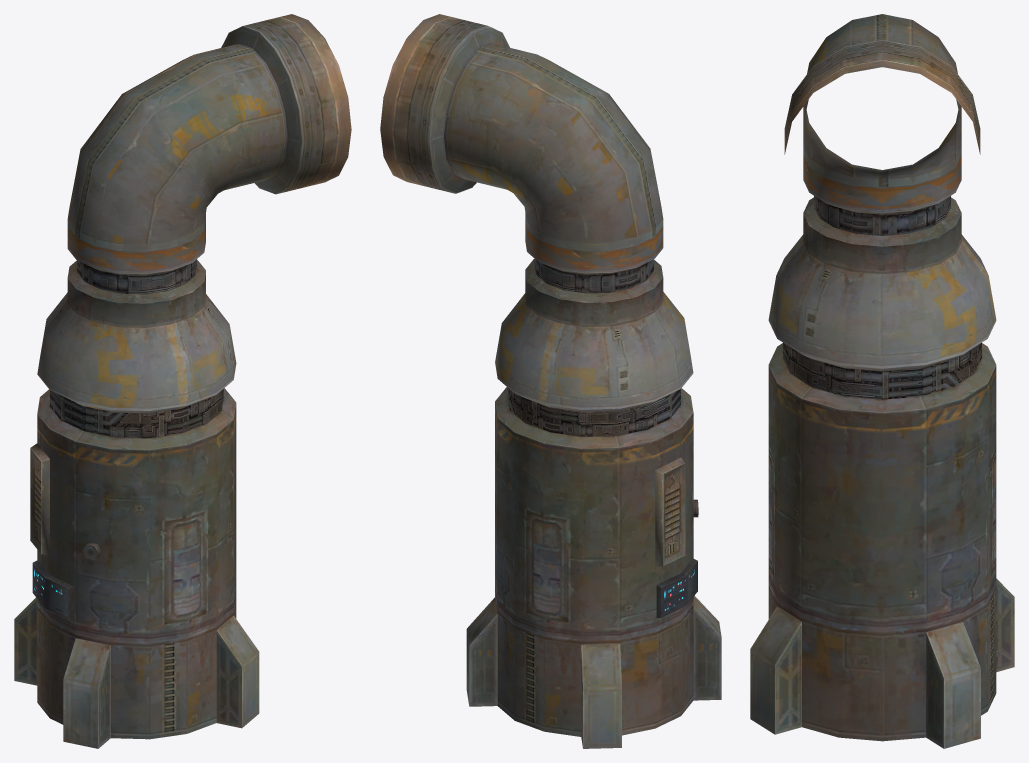
File: all_arch_und_gen_parts_pipestanding_02.glb
3 renders of one model, left to right at view 1: azimuth 30°, elevation 25°; view 2: azimuth 150°, elevation 25°; view 3: azimuth 270°, elevation 25°, orthographic. The views are drawn at different scales.
Visible parts, largest first — view 1: all_arch_und_gen_parts_pipestanding_02; view 2: all_arch_und_gen_parts_pipestanding_02; view 3: all_arch_und_gen_parts_pipestanding_02.
Part boxes in pixels (x1,y1,x2,y2): all_arch_und_gen_parts_pipestanding_02: (14, 14, 351, 748); all_arch_und_gen_parts_pipestanding_02: (380, 14, 721, 748); all_arch_und_gen_parts_pipestanding_02: (750, 14, 1014, 748).
Size of the model in its own units: 0.5533 by 1.23 by 0.4095.
Materials: 1 (1 with a texture image).
